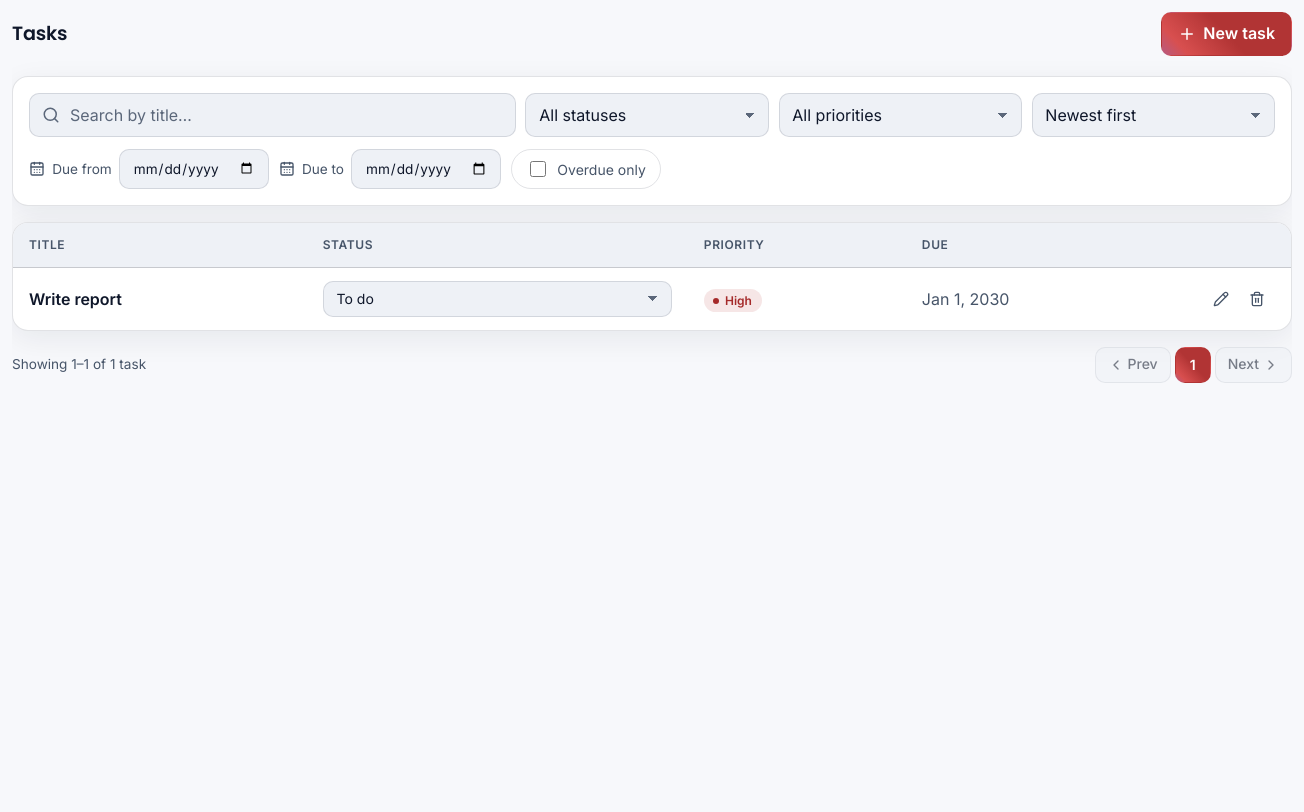
it: TaskList filters › changes status inline
Select "Done" in the dropdown named "Status of Write report" at (497, 299), box left=323, top=281, right=672, bottom=317
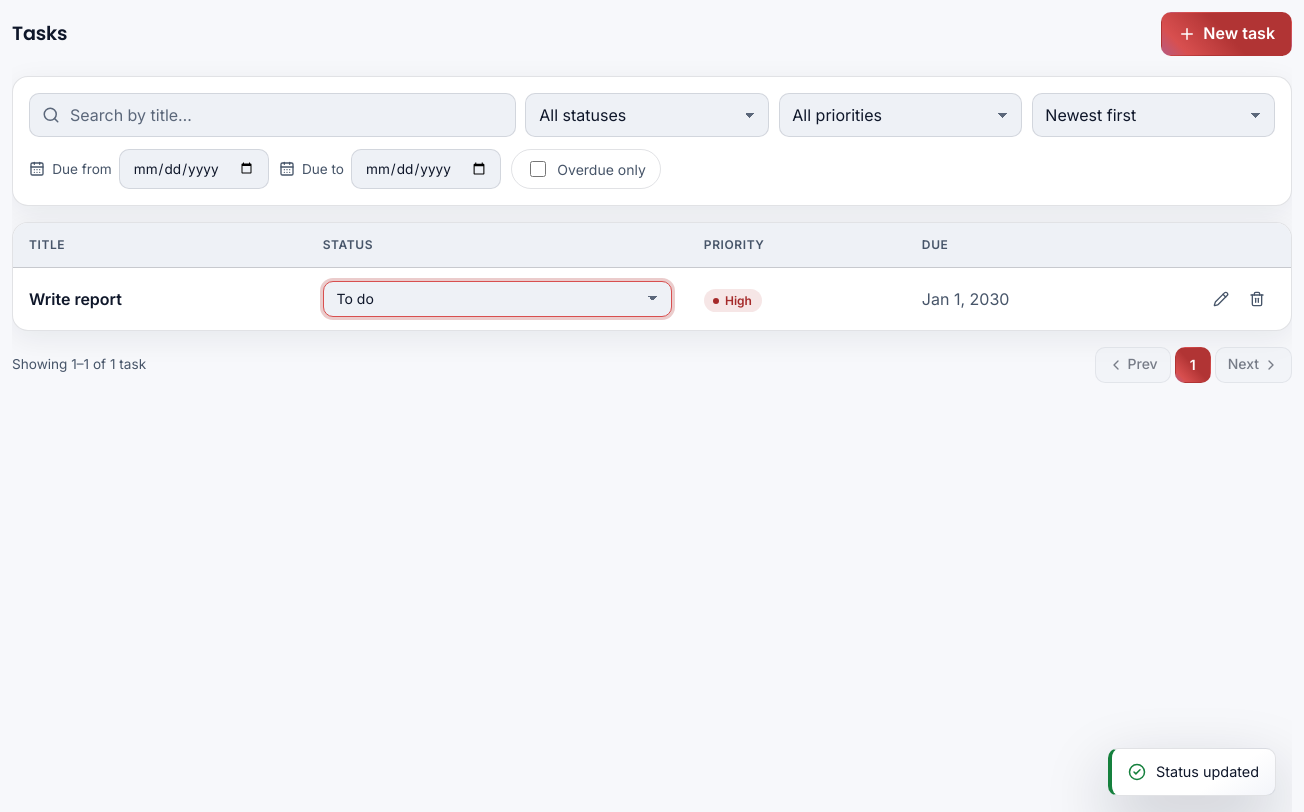
Expected: the text "Status updated" is shown, left=1156, top=761, right=1259, bottom=783
